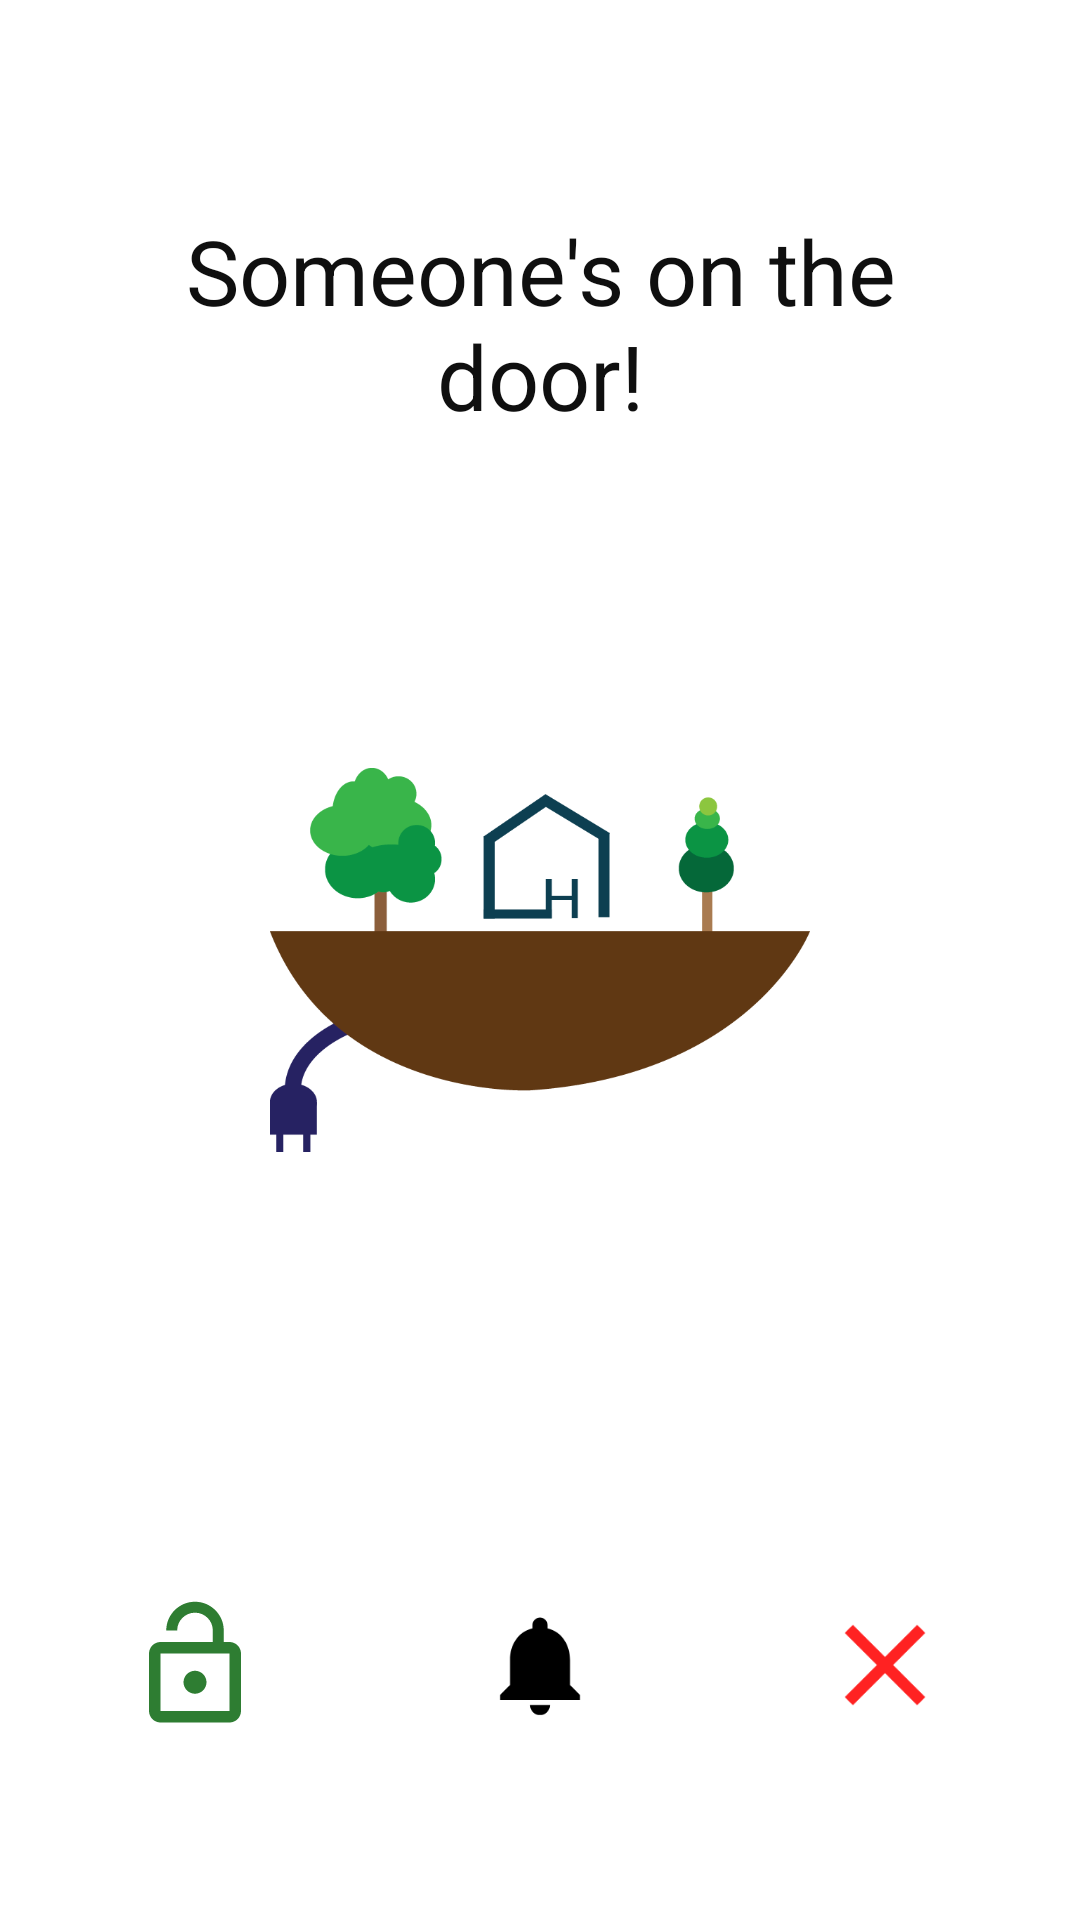

Where to tap for icons on this 1080 × 1920 app screen, as (x,y):
clear: (885,1665)
lock open: (195,1662)
